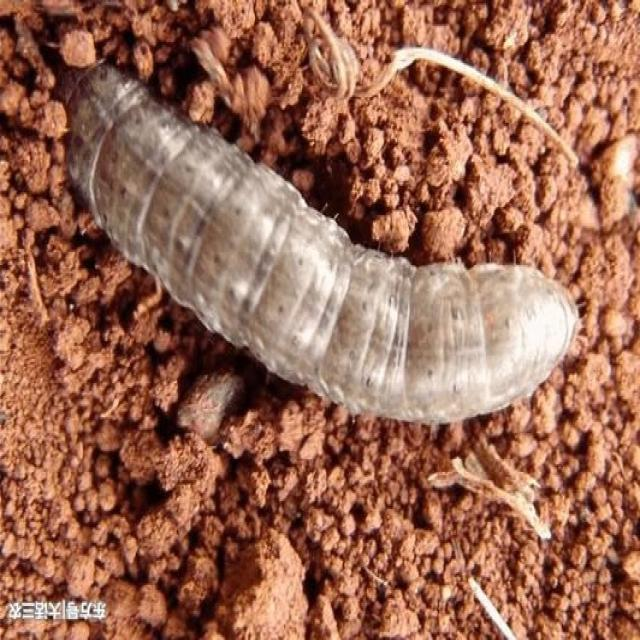black cutworm: (64, 60, 586, 438)
